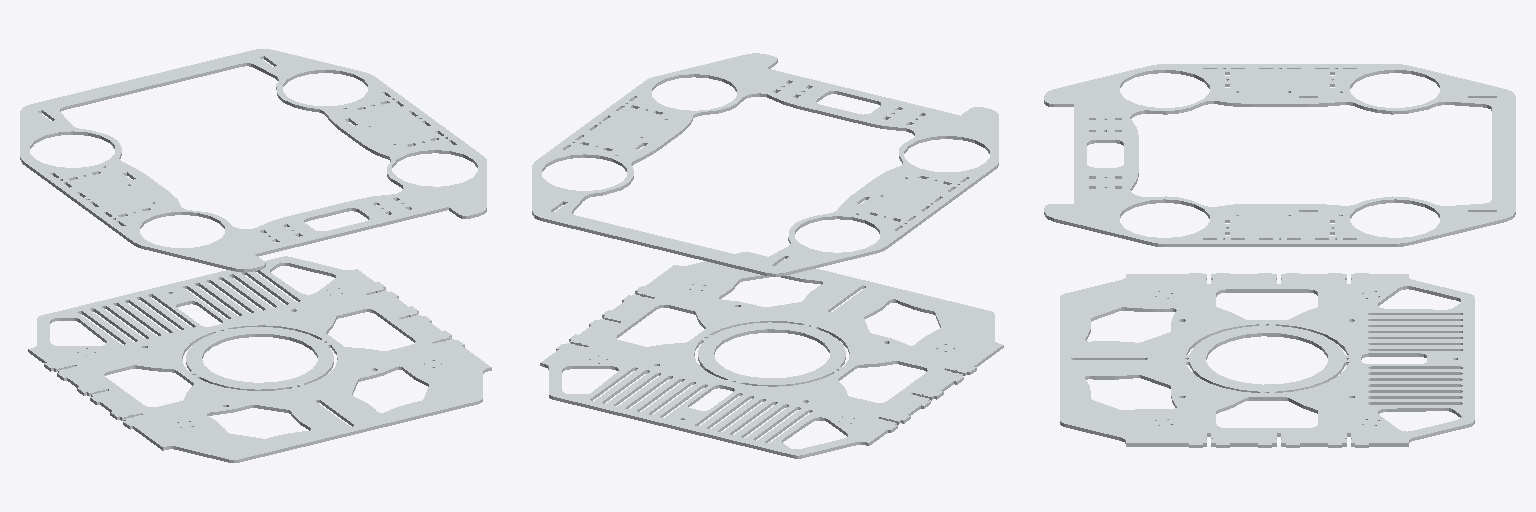
robot.urdf — rov3:
<?xml version="1.0" encoding="utf-8"?>
<!-- This URDF was automatically created by SolidWorks to URDF Exporter! Originally created by [author] ([email redacted]) 
     Commit Version: 1.6.0-4-g7f85cfe  Build Version: 1.6.7995.38578
     For more information, please see http://wiki.ros.org/sw_urdf_exporter -->
<robot
  name="rov3">
  <link
    name="base_link">
    <inertial>
      <origin
        xyz="0.0117515180043045 -0.144118267539873 -0.251612186144683"
        rpy="0 0 0" />
      <mass
        value="2.07208801297753" />
      <inertia
        ixx="0.0389997603970739"
        ixy="9.74635757767676E-13"
        ixz="1.54717550319683E-09"
        iyy="0.0782478716922286"
        iyz="2.22039905888209E-18"
        izz="0.0392536368687794" />
    </inertial>
    <visual>
      <origin
        xyz="0 0 0"
        rpy="0 0 0" />
      <geometry>
        <mesh
          filename="package://rov3/meshes/base_link.STL" />
      </geometry>
      <material
        name="">
        <color
          rgba="0.898039215686275 0.917647058823529 0.929411764705882 1" />
      </material>
    </visual>
    <collision>
      <origin
        xyz="0 0 0"
        rpy="0 0 0" />
      <geometry>
        <mesh
          filename="package://rov3/meshes/base_link.STL" />
      </geometry>
    </collision>
  </link>
</robot>

--- Render facts (derived) ---
3 views of the same robot in one strip: view 1: azimuth 30°, elevation 25°; view 2: azimuth 150°, elevation 25°; view 3: azimuth 270°, elevation 25° (orthographic).
Robot: rov3 — 1 links, 0 joints (none); root link base_link; default pose: every joint at zero.
Visible links, largest first — view 1: base_link; view 2: base_link; view 3: base_link.
Link boxes in pixels (box(x1,y1,x2,y2)): base_link: box(20, 49, 491, 462); base_link: box(532, 53, 1003, 458); base_link: box(1044, 64, 1515, 447).
Bounding box of the posed robot: 0.452 × 0.5 × 0.244 m (x, y, z).
Meshes: 1 distinct files referenced, 1 mesh visuals loaded (1 binary STL).
